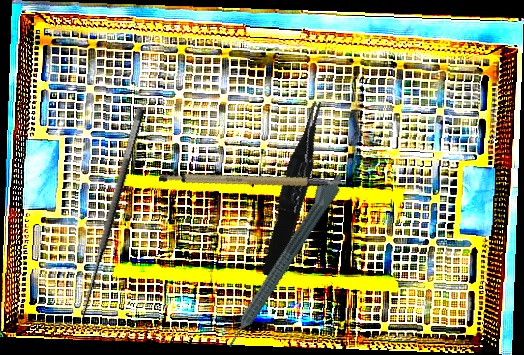Handpiece: (216, 167, 347, 351)
Hook Surgical: (72, 107, 163, 332)
Scalpel Handle: (158, 148, 347, 216)
Tissue Forceps: (253, 98, 338, 281)
